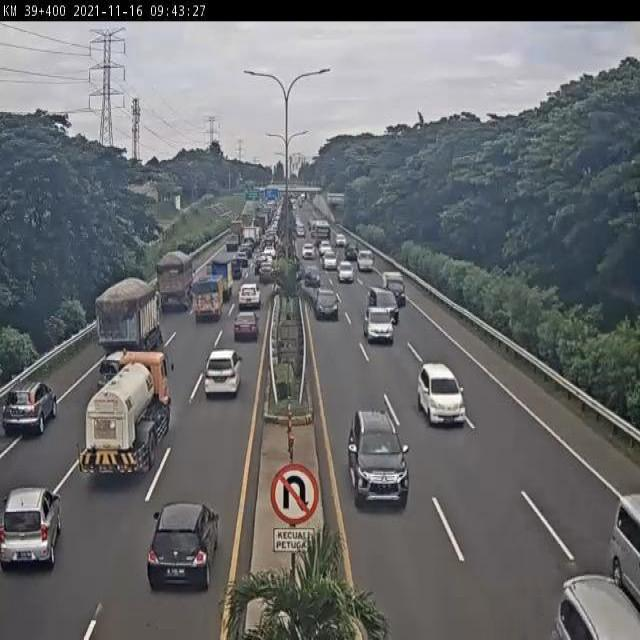car: (555, 560, 633, 640), (352, 405, 408, 499), (162, 491, 211, 592), (1, 483, 58, 565), (6, 371, 61, 438), (421, 352, 468, 423), (613, 468, 640, 571), (206, 349, 238, 403), (366, 284, 395, 319), (366, 307, 393, 341), (234, 313, 256, 343), (317, 286, 337, 318), (239, 284, 260, 308), (355, 247, 373, 269), (304, 261, 321, 284), (338, 258, 354, 282), (343, 237, 359, 260), (318, 236, 332, 256), (323, 248, 337, 267), (261, 261, 272, 284), (302, 239, 314, 256)
small truck: (193, 270, 221, 322), (208, 259, 234, 300), (382, 265, 406, 300)
truck-m-: (74, 349, 178, 480), (94, 275, 167, 369), (160, 250, 193, 310)
